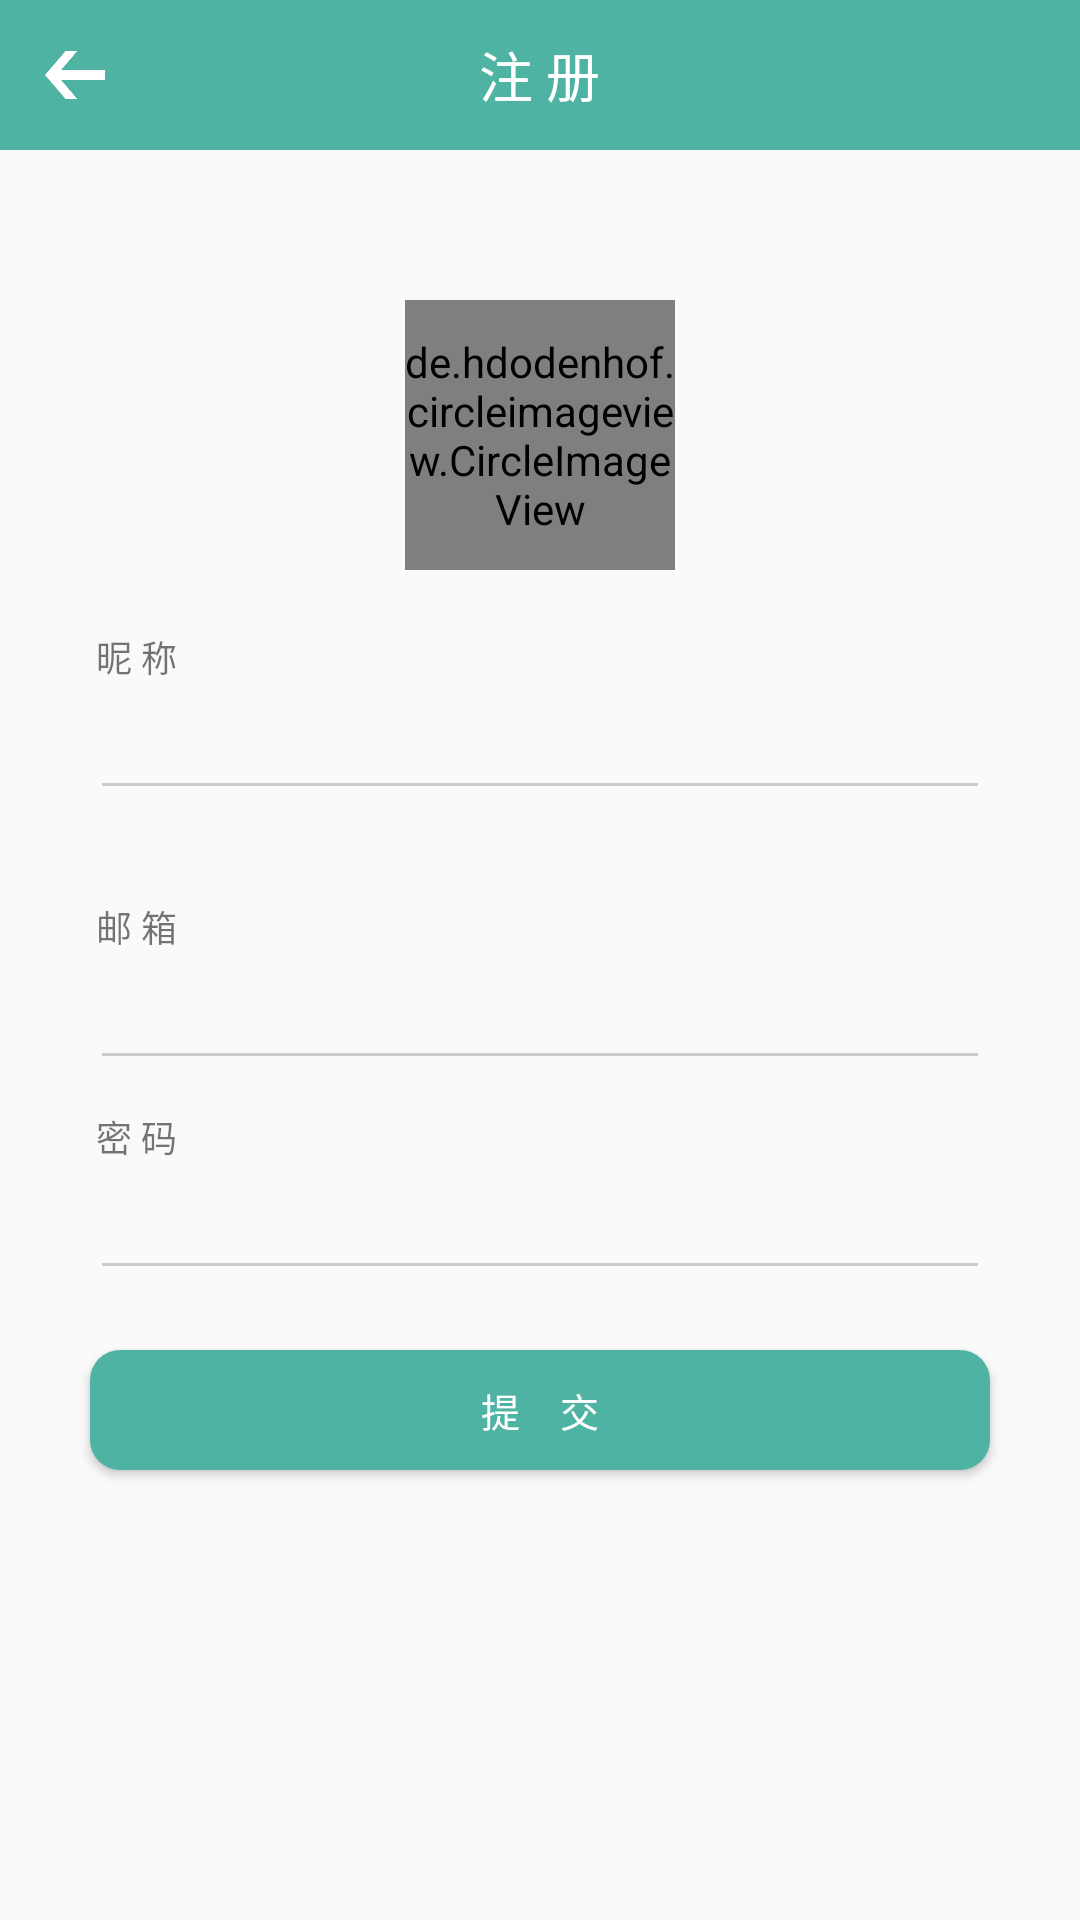

Screen size 1080px x 1920px. Icon name, then its box in pixels as (x1, y1, x2, y2):
goback: (45, 51, 105, 99)
